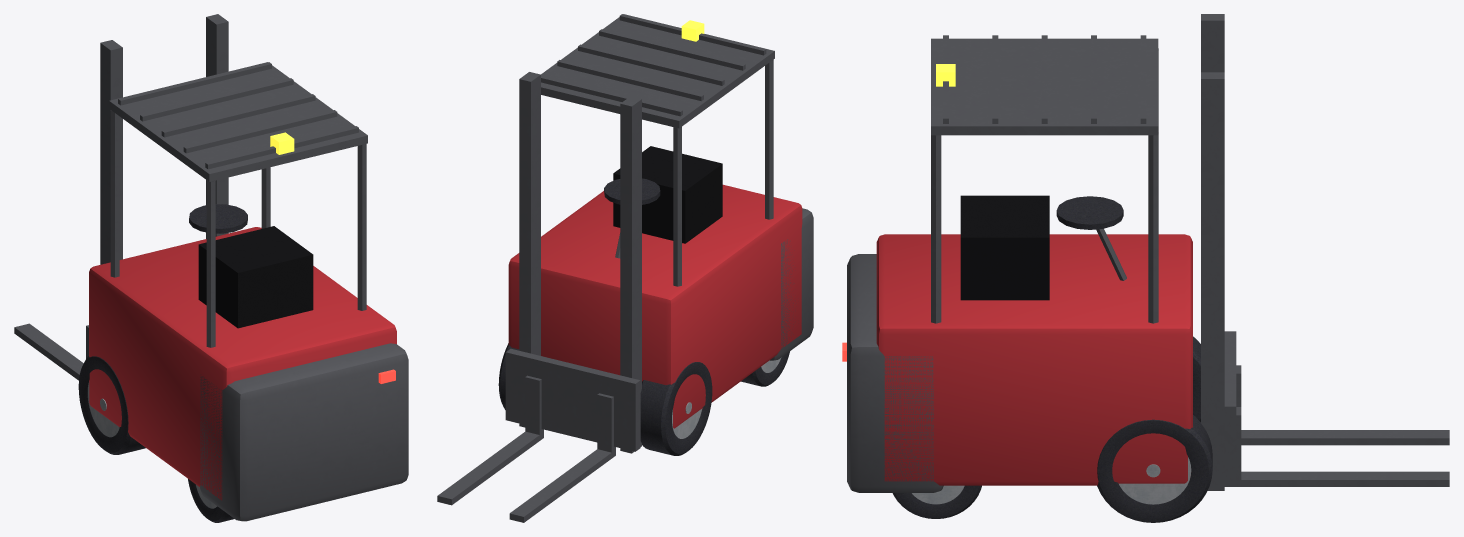
File: forklift_red.gltf
3 views of the same model, side by side, from view 1: azimuth 30°, elevation 25°; view 2: azimuth 150°, elevation 25°; view 3: azimuth 270°, elevation 25° (orthographic). The views are drawn at different scales.
Visible parts, largest first — view 1: forklift_red; view 2: forklift_red; view 3: forklift_red.
Part boxes in pixels (left/top/right/bottom): forklift_red: left=14, top=14, right=408, bottom=522; forklift_red: left=437, top=14, right=813, bottom=522; forklift_red: left=842, top=14, right=1449, bottom=522.
Size of the model in its own units: 1.16 by 2.4 by 3.07.
10 materials, 6 textured.
